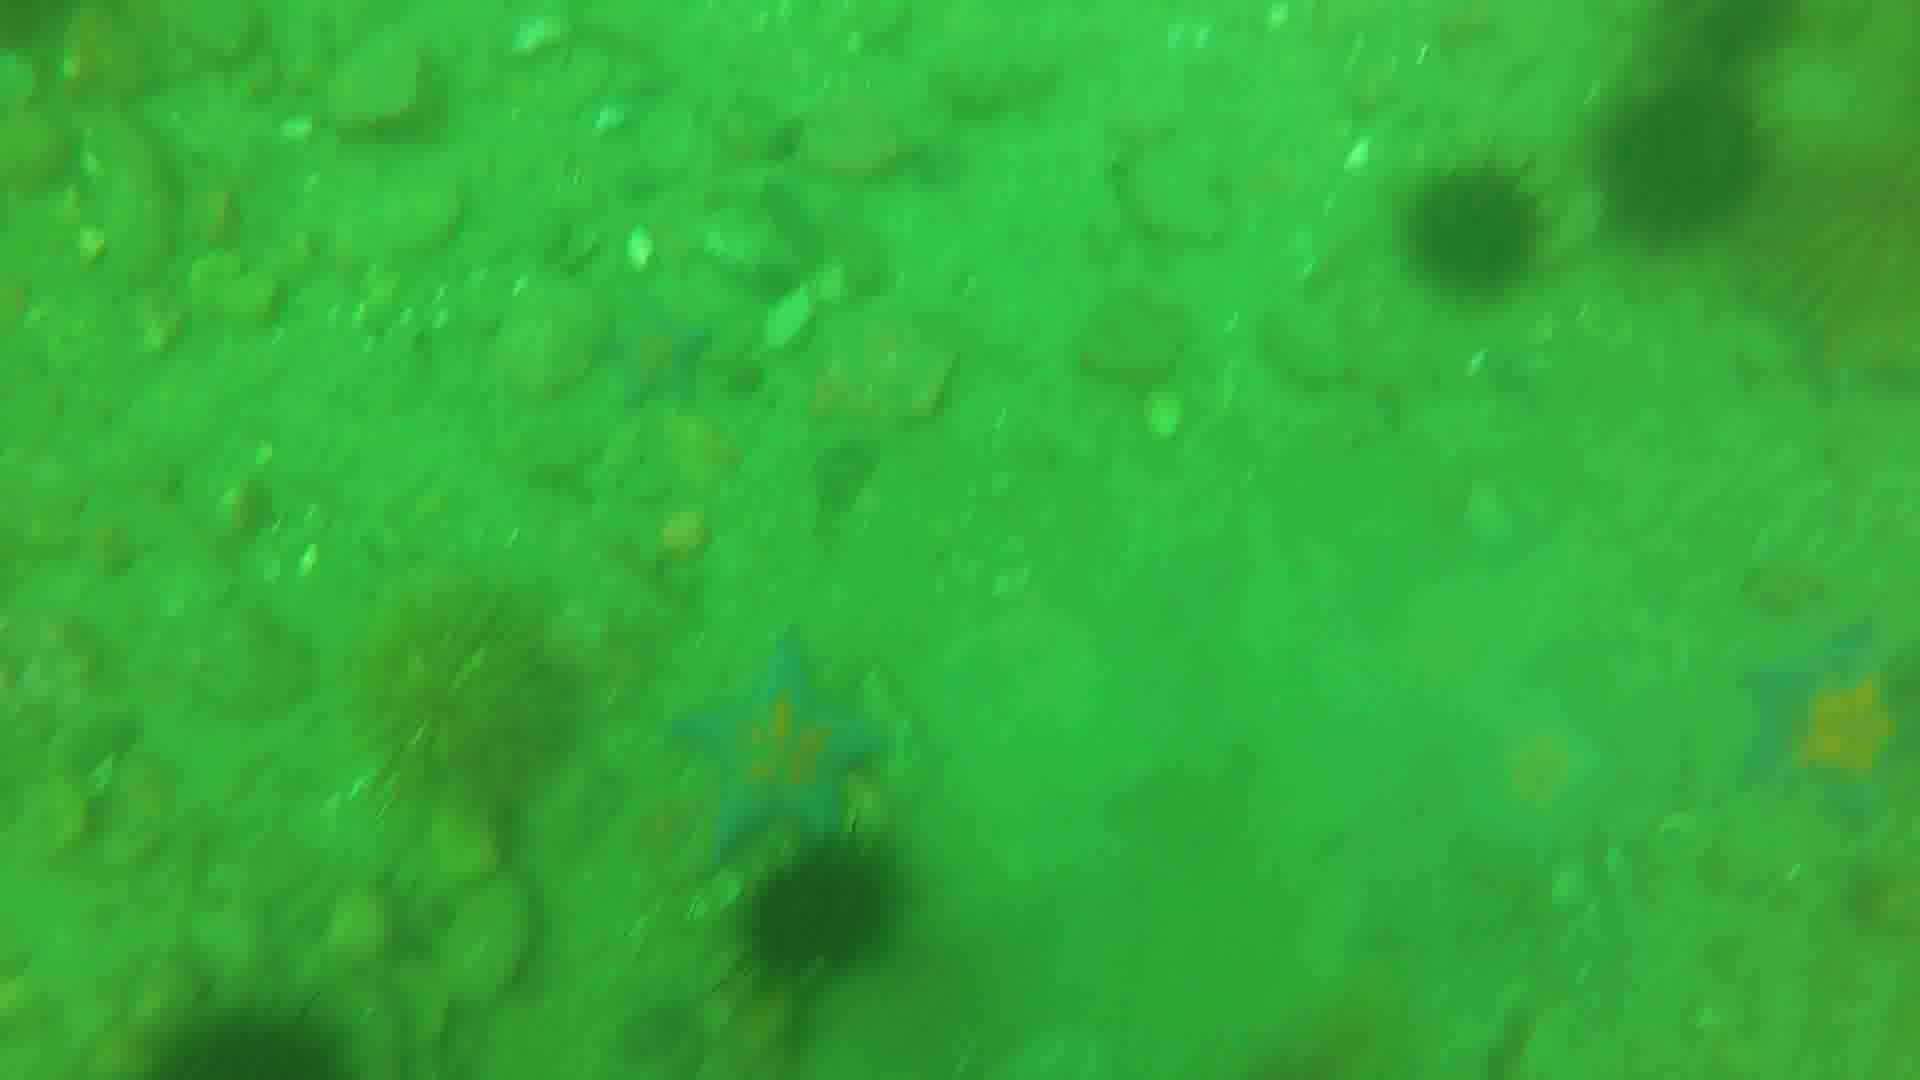echinus: (368, 596, 578, 789), (1596, 62, 1782, 251), (750, 831, 899, 978), (1396, 164, 1563, 284), (133, 1004, 364, 1080), (1648, 7, 1812, 76)
scallop: (1141, 386, 1203, 452), (774, 282, 824, 348), (618, 215, 669, 272)
starfish: (663, 636, 901, 868), (1724, 617, 1920, 835), (1466, 700, 1610, 856), (600, 303, 717, 415)
